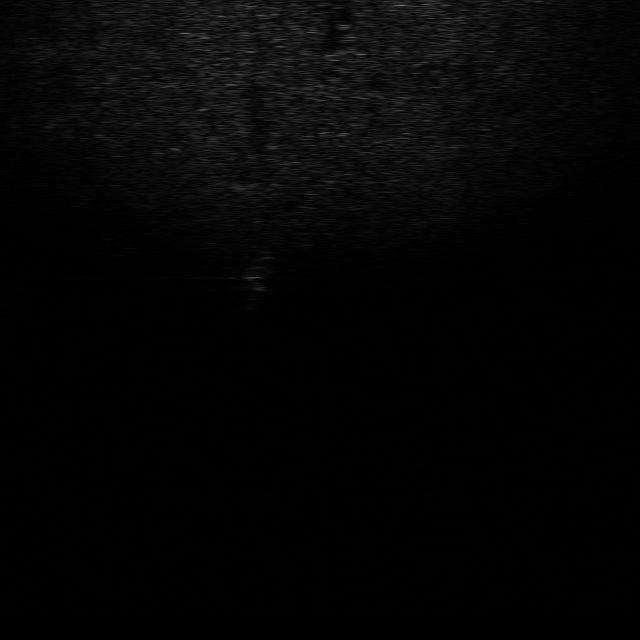human body: (242, 243, 276, 315)
